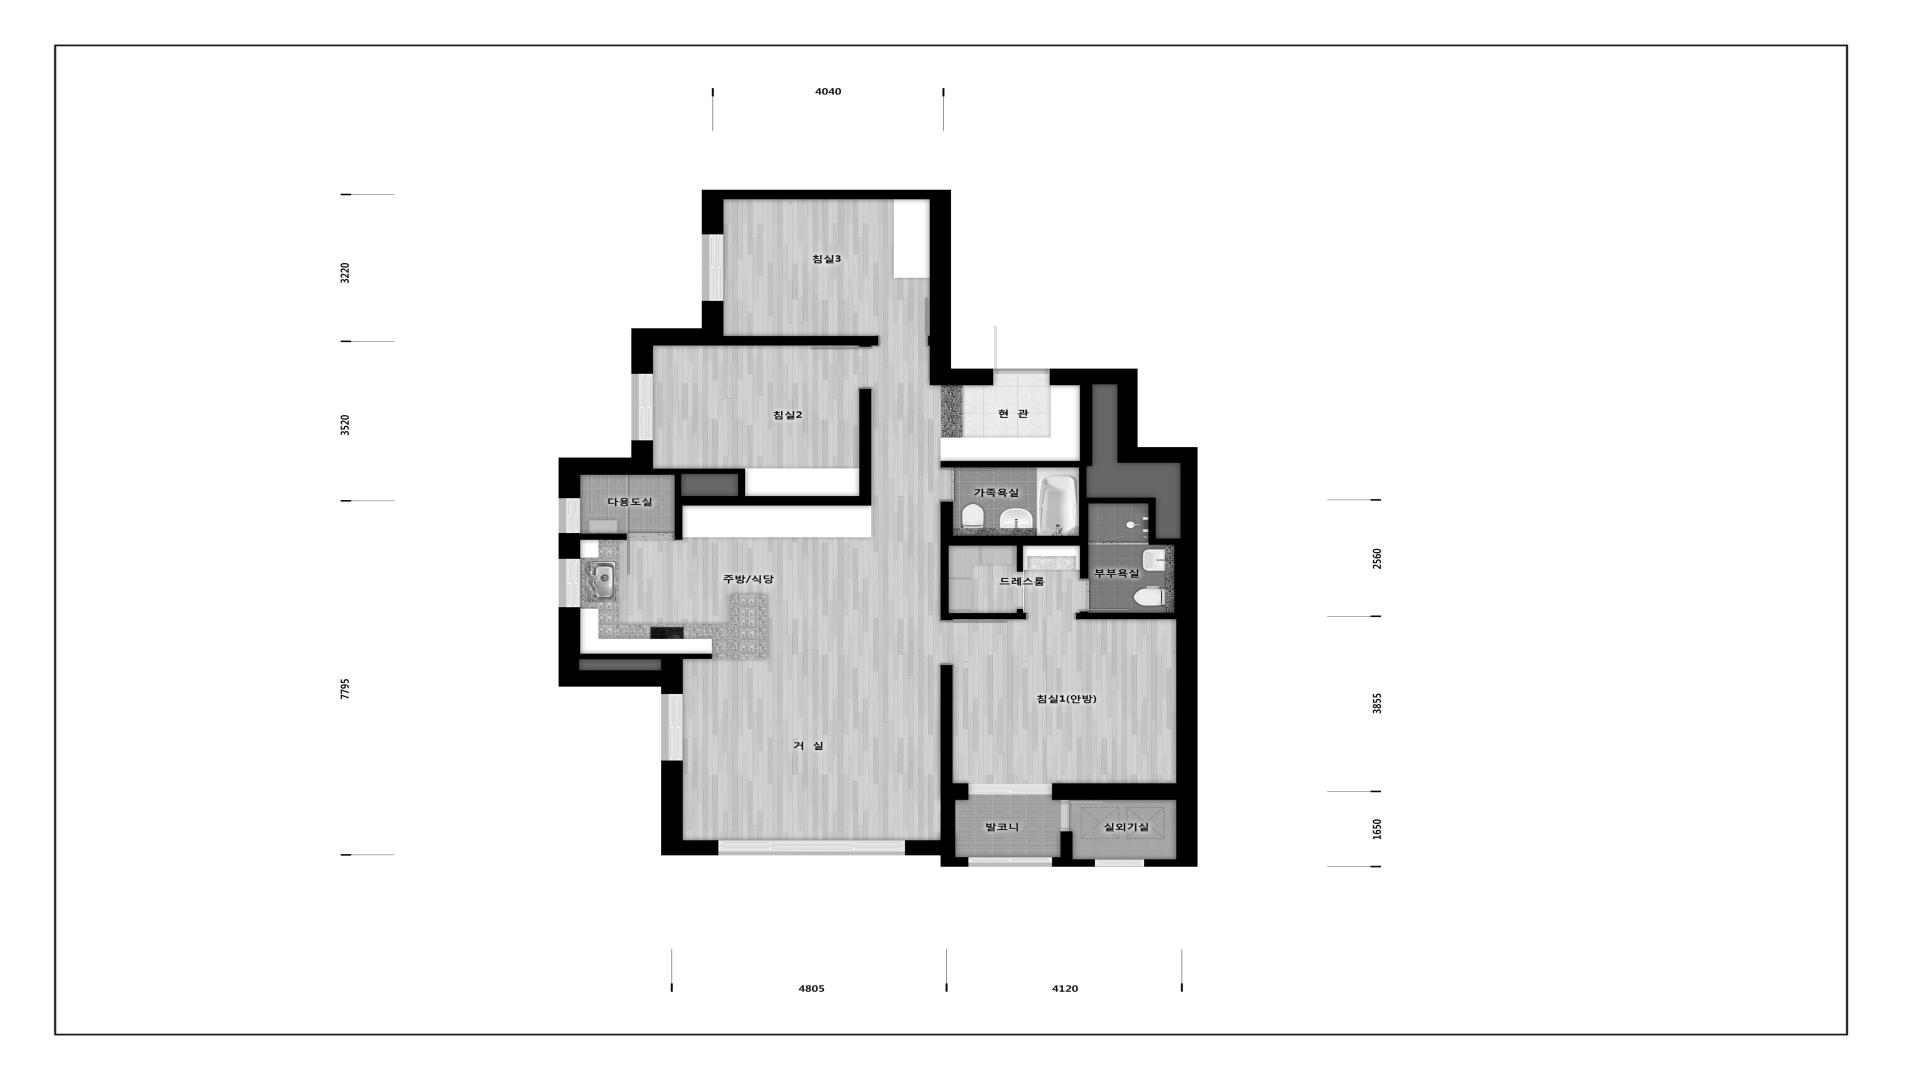background: (0, 0, 1920, 1080)
door: (939, 620, 1006, 666), (993, 326, 1051, 373), (811, 345, 873, 389), (877, 298, 928, 347), (939, 468, 993, 502), (1079, 579, 1129, 612), (1060, 800, 1104, 831), (1088, 535, 1149, 545)
wall: (1050, 368, 1197, 866), (702, 190, 993, 385), (559, 608, 683, 694), (632, 301, 724, 373), (559, 440, 654, 498), (661, 761, 719, 856), (940, 666, 968, 840), (1079, 385, 1092, 579), (654, 468, 745, 496), (1052, 783, 1176, 800), (580, 654, 712, 670), (682, 496, 872, 505), (905, 840, 968, 866), (723, 336, 878, 347), (940, 501, 953, 613), (858, 389, 872, 496), (952, 535, 1079, 546), (940, 460, 1079, 468), (1149, 504, 1174, 545), (940, 609, 1026, 620), (1076, 612, 1175, 620), (559, 533, 580, 559), (1088, 497, 1156, 504), (675, 475, 682, 539), (1052, 857, 1095, 866), (1060, 831, 1072, 857), (580, 534, 626, 539), (1017, 546, 1023, 572)
window: (719, 840, 905, 856), (699, 235, 724, 301), (659, 694, 683, 761), (632, 373, 653, 440), (559, 559, 580, 608), (968, 783, 1052, 794), (968, 857, 1052, 866), (559, 498, 580, 533), (1095, 860, 1145, 866)
